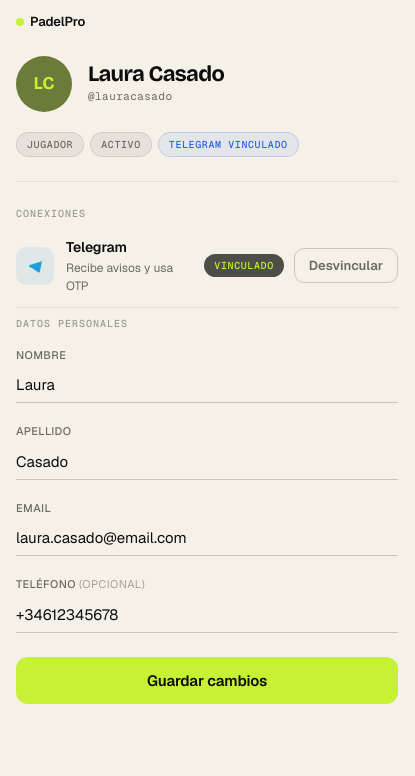
Scenario: MiPerfilPage (T-144) › P-3 — should show email conflict error on 409
Note: Change email to something that conflicts
Replace the text in the field labelled "Email" with "existing@email.com" at coordinates (207, 538), box [16,520,398,556]
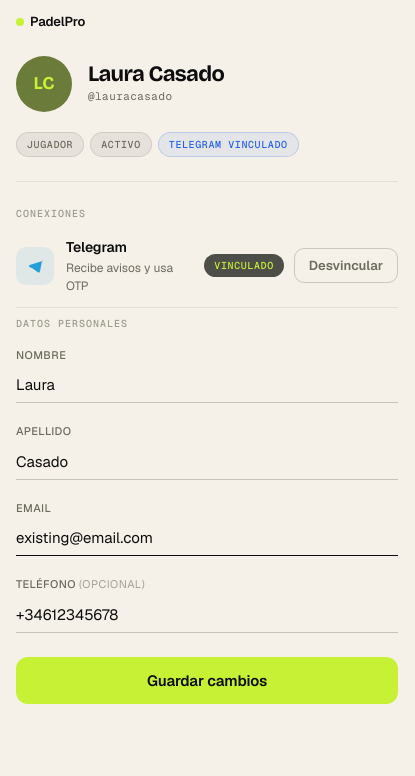
Click the button "Guardar cambios" at coordinates (207, 680), box [16,656,398,704]
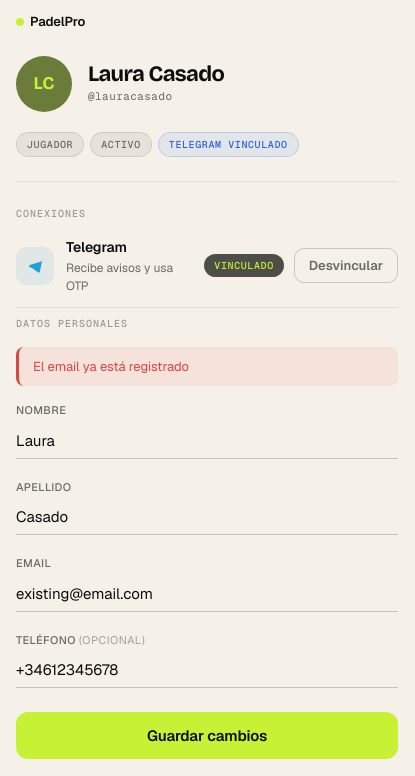
Now the message reads "El email ya está registrado", box [33,358,189,374]
